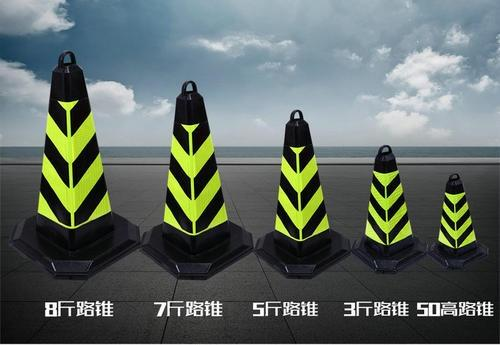cone_barrel: (16, 50, 123, 273), (145, 82, 242, 274), (257, 110, 341, 274), (352, 144, 418, 268), (429, 172, 485, 264)
